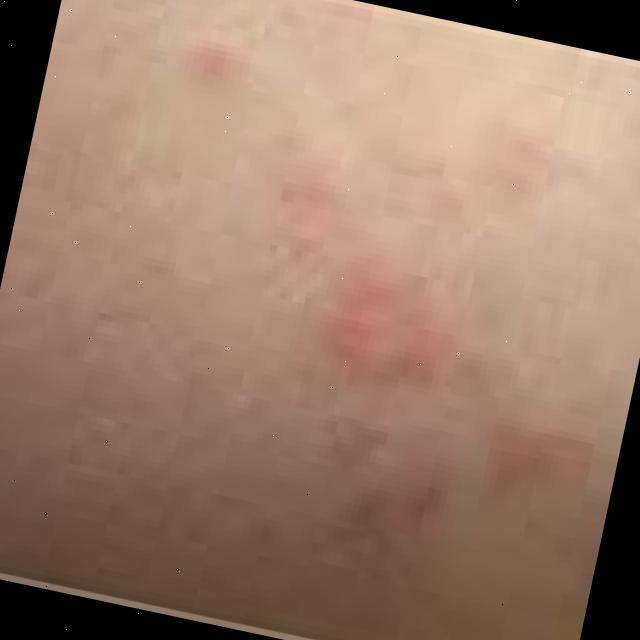kan emici bocekler: (309, 252, 462, 406), (319, 411, 465, 524), (489, 405, 594, 490), (182, 33, 253, 95)
